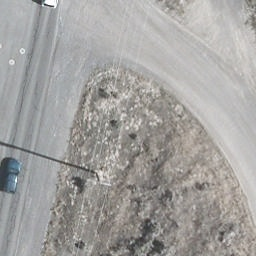car: (1, 159, 22, 195)
